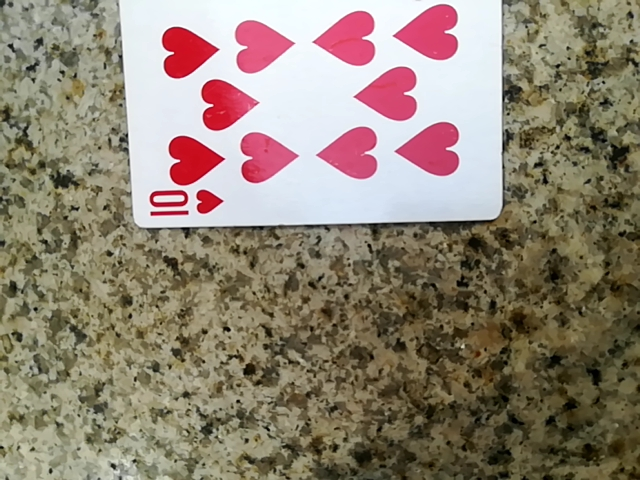hx 10: (112, 0, 506, 229)
